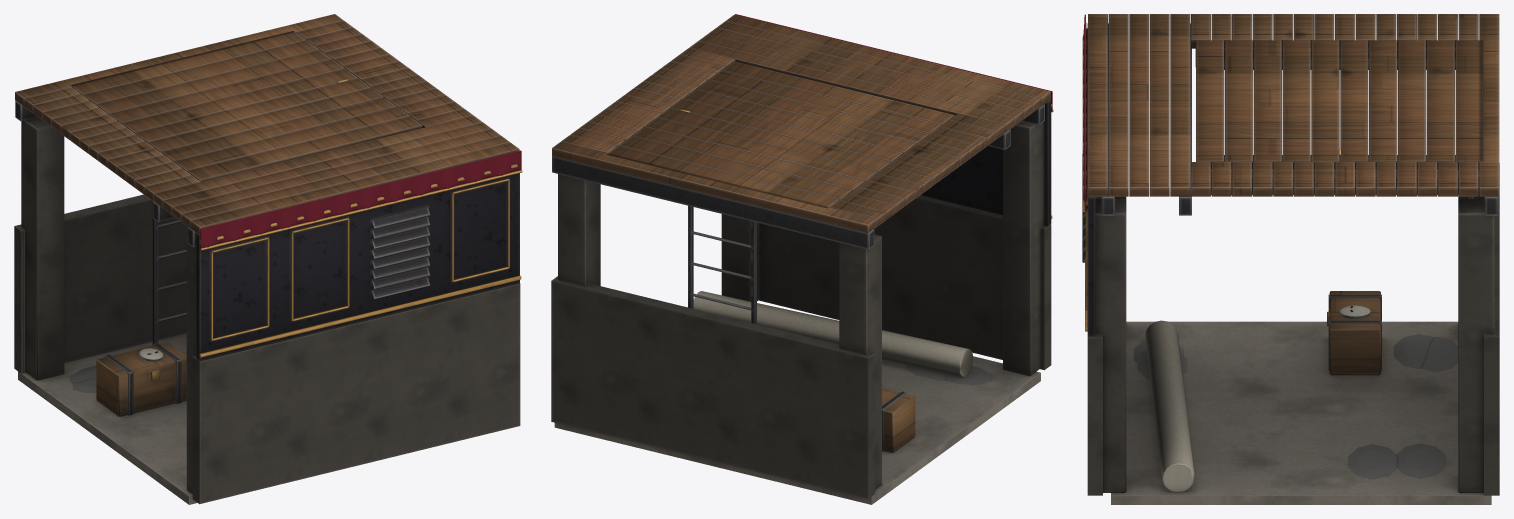
File: StageCrawlspace.fbx
3 views of the same model, side by side, from view 1: azimuth 30°, elevation 25°; view 2: azimuth 150°, elevation 25°; view 3: azimuth 270°, elevation 25° (orthographic). The views are drawn at different scales.
Parts seen in each view (by area): view 1: StageCrawlspace_Main, StageCrawlspace_Door0; view 2: StageCrawlspace_Main, StageCrawlspace_Door0; view 3: StageCrawlspace_Main, StageCrawlspace_Door0.
Part boxes in pixels (x1,y1,x2,y2): StageCrawlspace_Main: [14, 14, 522, 504]; StageCrawlspace_Door0: [71, 31, 422, 181]; StageCrawlspace_Main: [551, 14, 1053, 504]; StageCrawlspace_Door0: [607, 61, 954, 208]; StageCrawlspace_Main: [1082, 14, 1499, 504]; StageCrawlspace_Door0: [1196, 40, 1483, 170].
Bounding box in the file's own units: 800 × 682 × 810.
